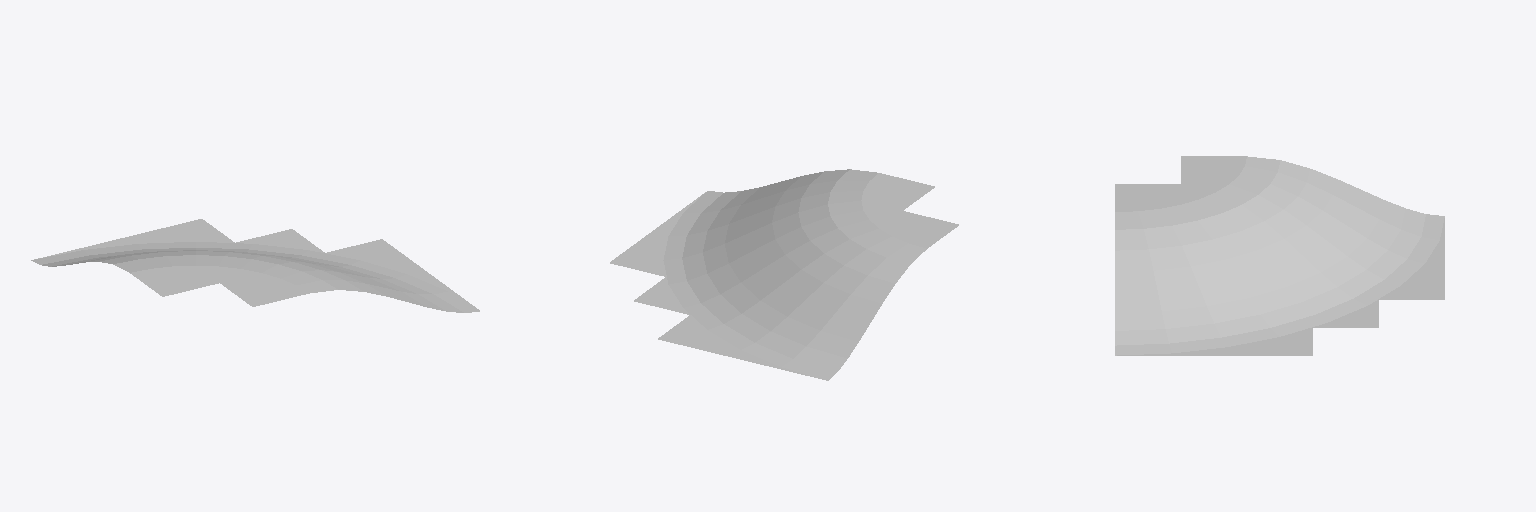
File: Terrain_Hill_Corner_Outer_5x5.obj
3 views of the same model, side by side, from view 1: azimuth 30°, elevation 25°; view 2: azimuth 150°, elevation 25°; view 3: azimuth 270°, elevation 25° (orthographic).
Visible parts, largest first — view 1: Grass; view 2: Grass; view 3: Grass.
Boxes of the visible parts, x1=… form: Grass: x1=31, y1=219, x2=479, y2=312; Grass: x1=610, y1=169, x2=958, y2=380; Grass: x1=1115, y1=156, x2=1444, y2=355.
Bounding box in the file's own units: 5 × 1 × 5.